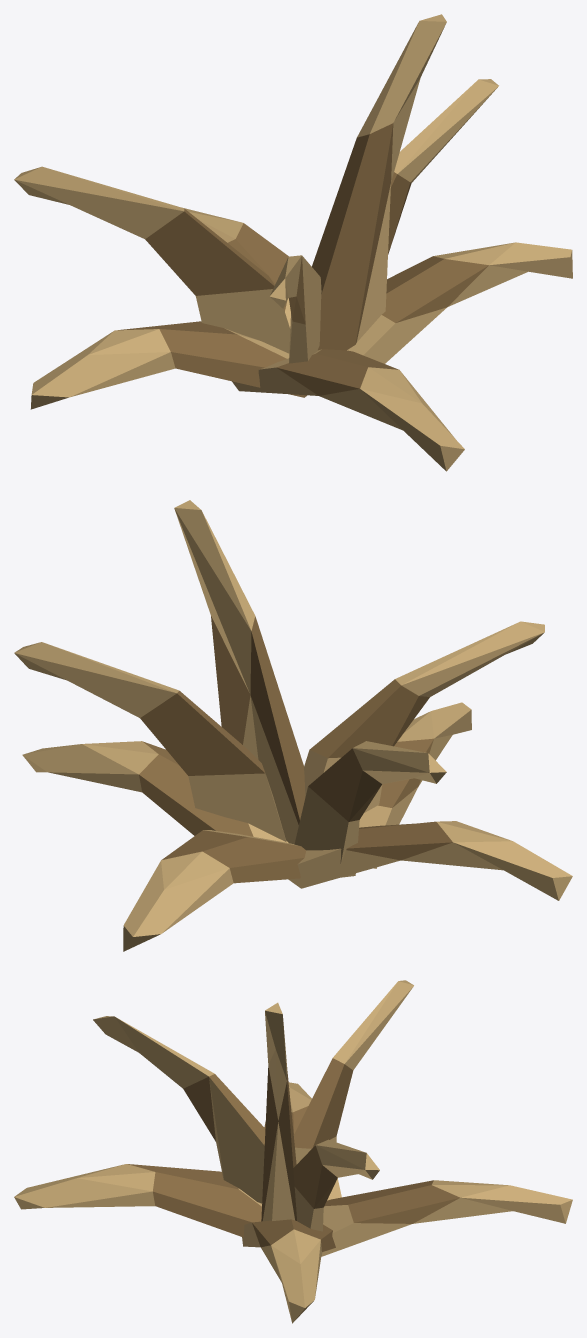
Rendered from EA_M_Env_Dry_Grass_01a.fbx.
The picture shows the model from 3 angles, top to bottom: view 1: azimuth 30°, elevation 25°; view 2: azimuth 150°, elevation 25°; view 3: azimuth 270°, elevation 25°; orthographic projection. The views are drawn at different scales.
Parts seen in each view (by area): view 1: EA_M_Env_Dry_Grass_01a_LOD0; view 2: EA_M_Env_Dry_Grass_01a_LOD0; view 3: EA_M_Env_Dry_Grass_01a_LOD0.
Boxes of the visible parts, <box> form: EA_M_Env_Dry_Grass_01a_LOD0: <box>14,14,572,471</box>; EA_M_Env_Dry_Grass_01a_LOD0: <box>14,500,572,951</box>; EA_M_Env_Dry_Grass_01a_LOD0: <box>14,980,572,1323</box>.
Size of what is drawn, in the model's own units: 0.5671 by 0.3216 by 0.5899.
